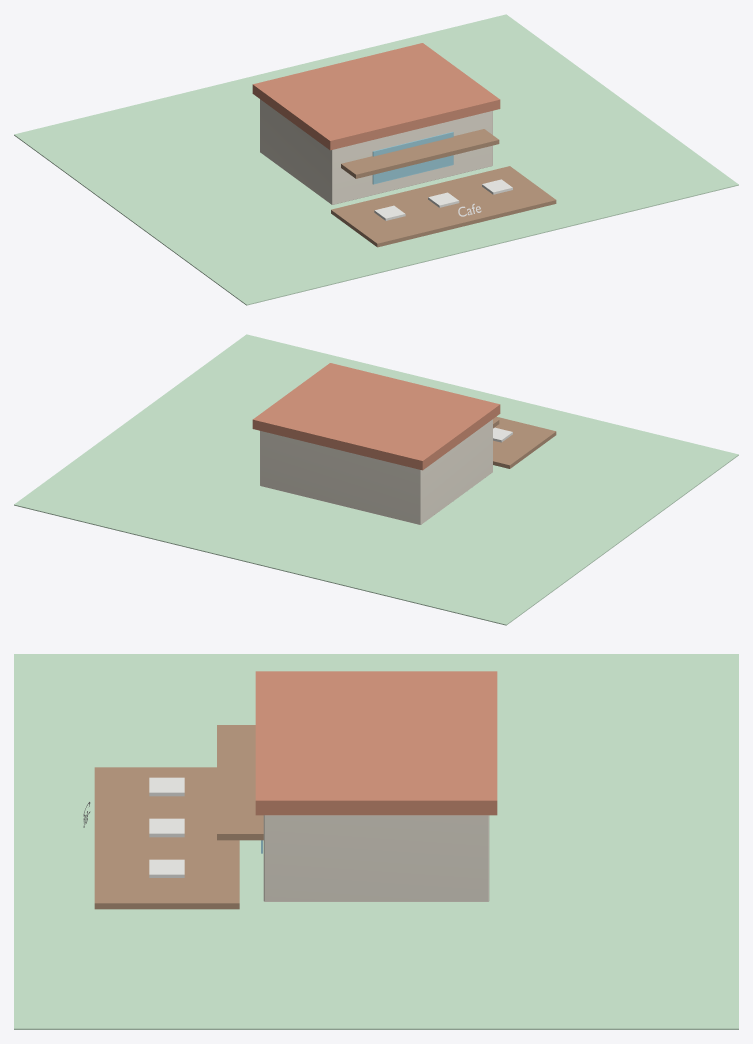
The model's file is cafe.glb.
3 views of the same model, one above another, from view 1: azimuth 30°, elevation 25°; view 2: azimuth 150°, elevation 25°; view 3: azimuth 270°, elevation 25° (orthographic). The views are drawn at different scales.
Parts seen in each view (by area): view 1: cafe.001_base_tile, cafe_roof, cafe_body, cafe_terrace_deck, cafe_awning, cafe_front_glass; view 2: cafe.001_base_tile, cafe_roof, cafe_body, cafe_terrace_deck; view 3: cafe.001_base_tile, cafe_roof, cafe_body, cafe_terrace_deck, cafe_awning, cafe_table_-6, cafe_table_0, cafe_table_6.
Part boxes in pixels (left/top/right/bottom): cafe.001_base_tile: left=14, top=14, right=738, bottom=305; cafe_roof: left=252, top=43, right=500, bottom=150; cafe_body: left=260, top=99, right=492, bottom=204; cafe_terrace_deck: left=331, top=166, right=556, bottom=247; cafe_awning: left=341, top=129, right=499, bottom=178; cafe_front_glass: left=372, top=132, right=453, bottom=184; cafe.001_base_tile: left=14, top=334, right=738, bottom=625; cafe_roof: left=252, top=363, right=500, bottom=470; cafe_body: left=260, top=419, right=492, bottom=524; cafe_terrace_deck: left=493, top=416, right=556, bottom=468; cafe.001_base_tile: left=14, top=654, right=738, bottom=1029; cafe_roof: left=255, top=671, right=497, bottom=815; cafe_body: left=263, top=815, right=489, bottom=901; cafe_terrace_deck: left=94, top=767, right=239, bottom=909; cafe_awning: left=217, top=725, right=263, bottom=840; cafe_table_-6: left=149, top=777, right=184, bottom=796; cafe_table_0: left=149, top=818, right=184, bottom=837; cafe_table_6: left=149, top=859, right=184, bottom=877.
Bounding box in the file's own units: 55 × 7.31 × 45.
